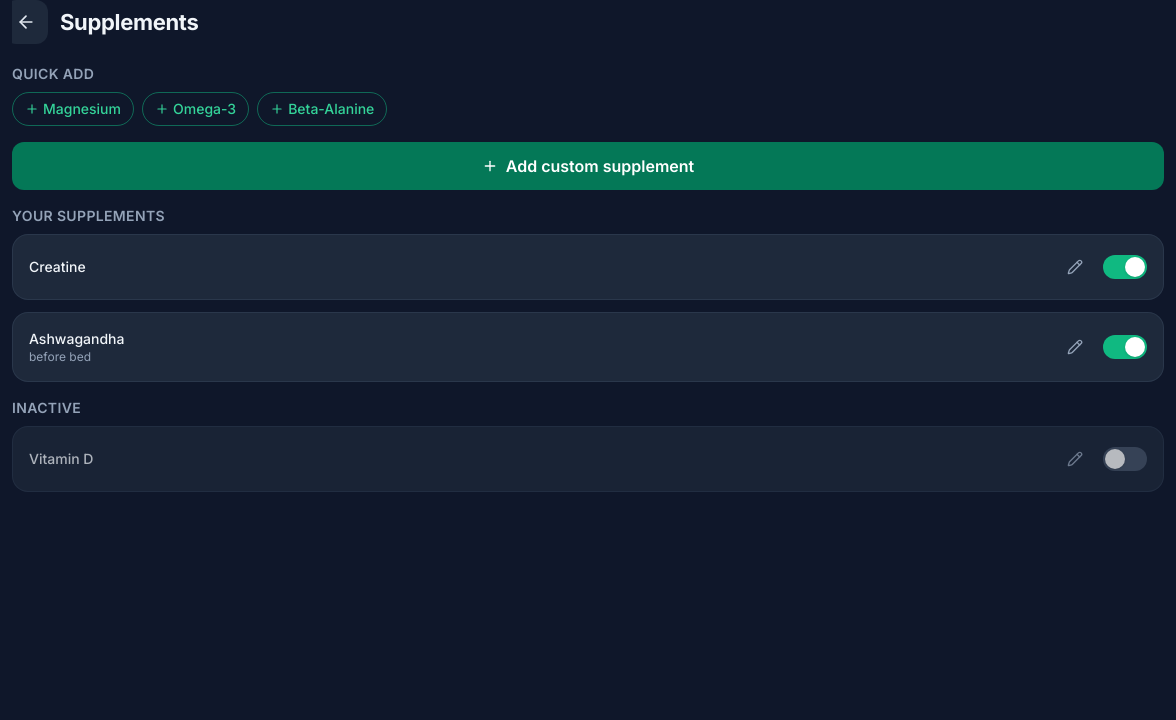
Test: custom add › rejects a non-positive dose amount
Click the button "Add custom supplement".
click(588, 166)  # box [12,142,1164,190]
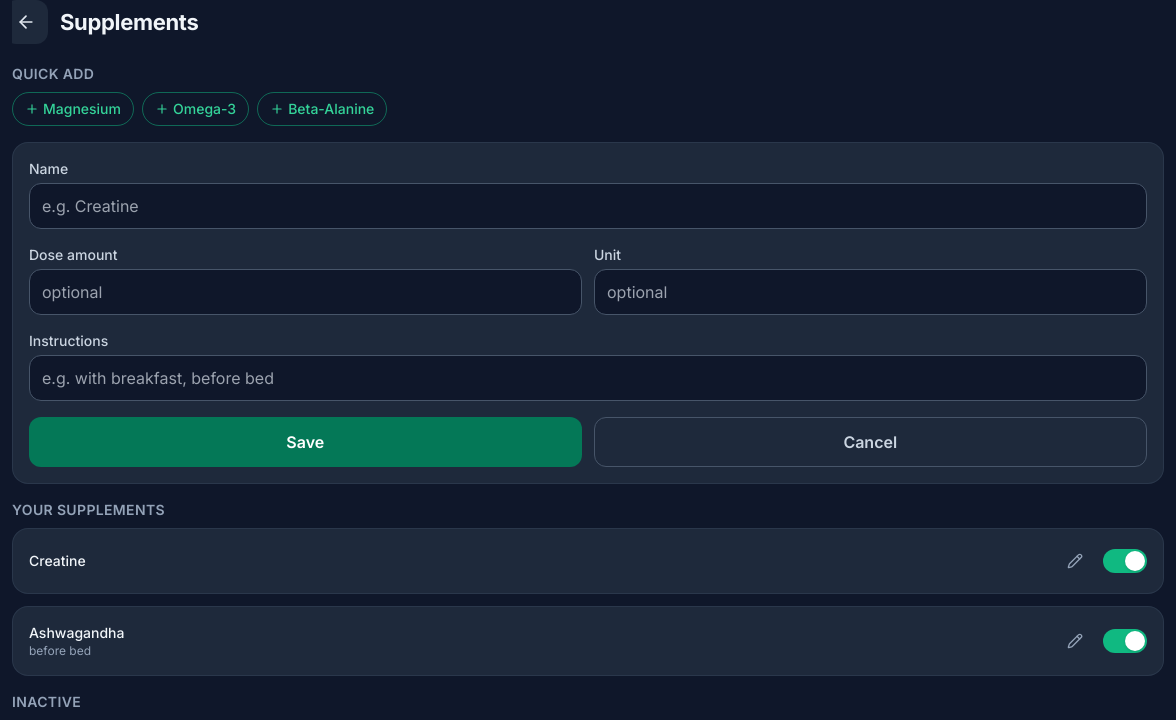
Type "Zinc" into the field labelled "Name".
click(588, 206); type("Zinc")  # box [29,183,1147,229]
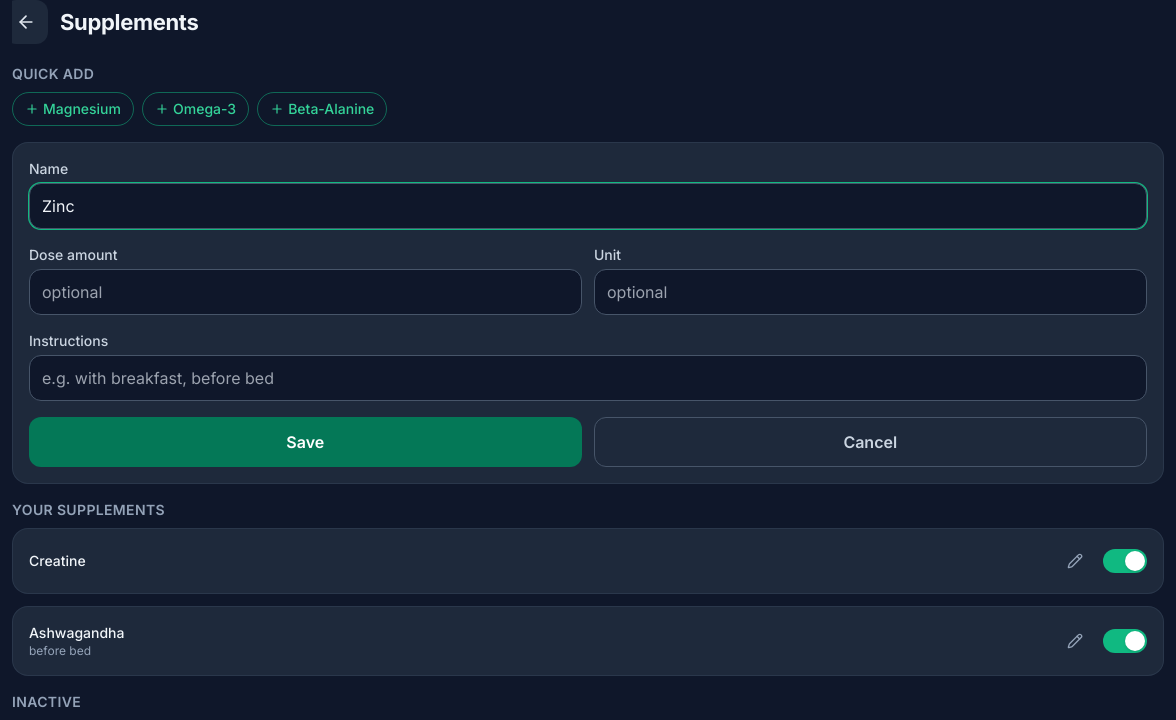
fireEvent: jsdom sanitizes minus-sign keystrokes typed into number inputs.
Type "-5" into the number field labelled "Dose amount".
click(306, 292); type("-5")  # box [29,269,582,315]
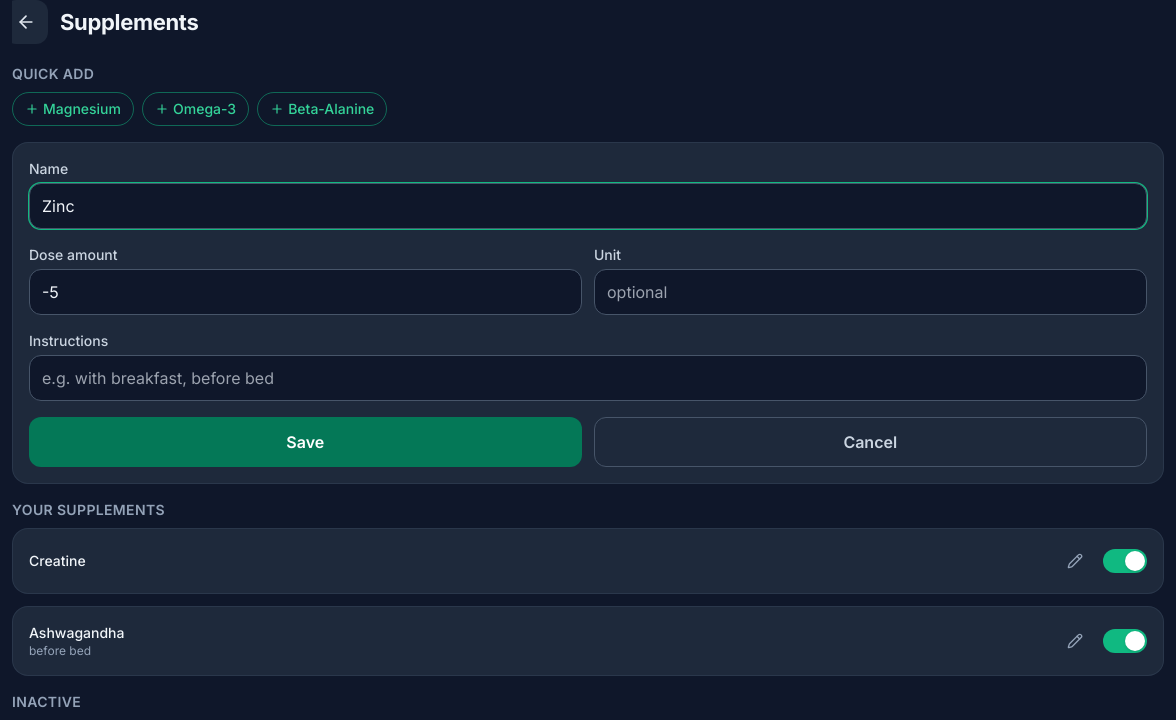
Click the button "Save".
click(305, 442)  # box [29,417,582,467]
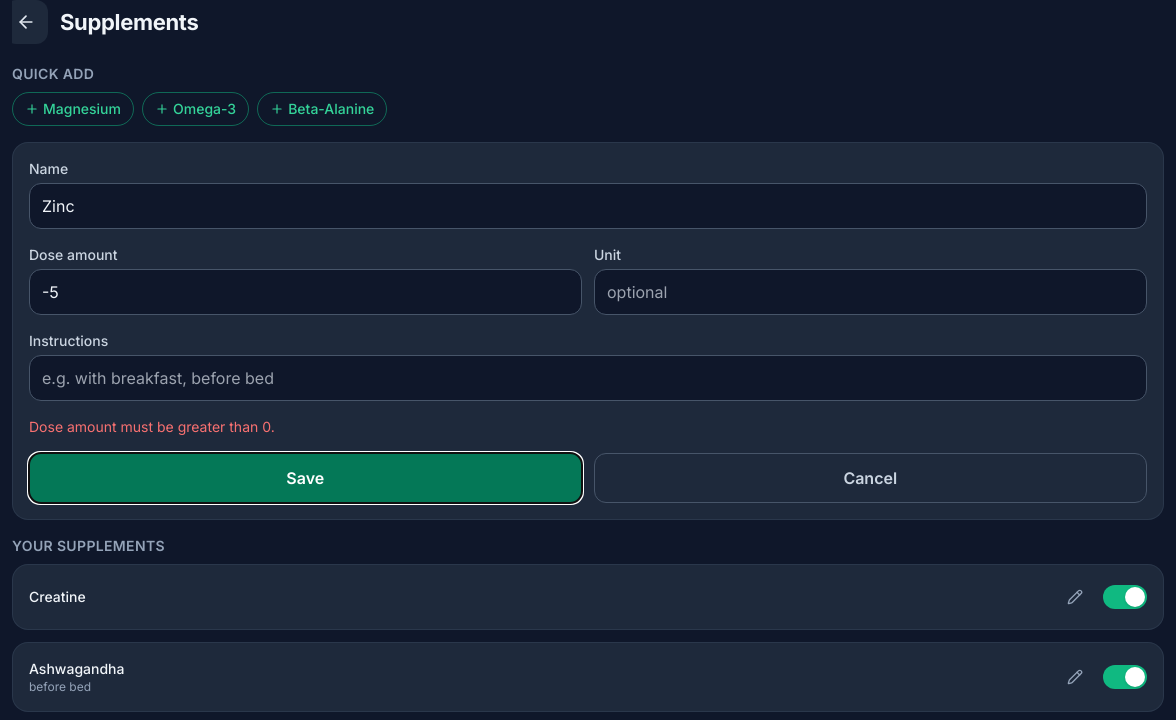
Result: the message shows "Dose" at [29,418,275,435]
